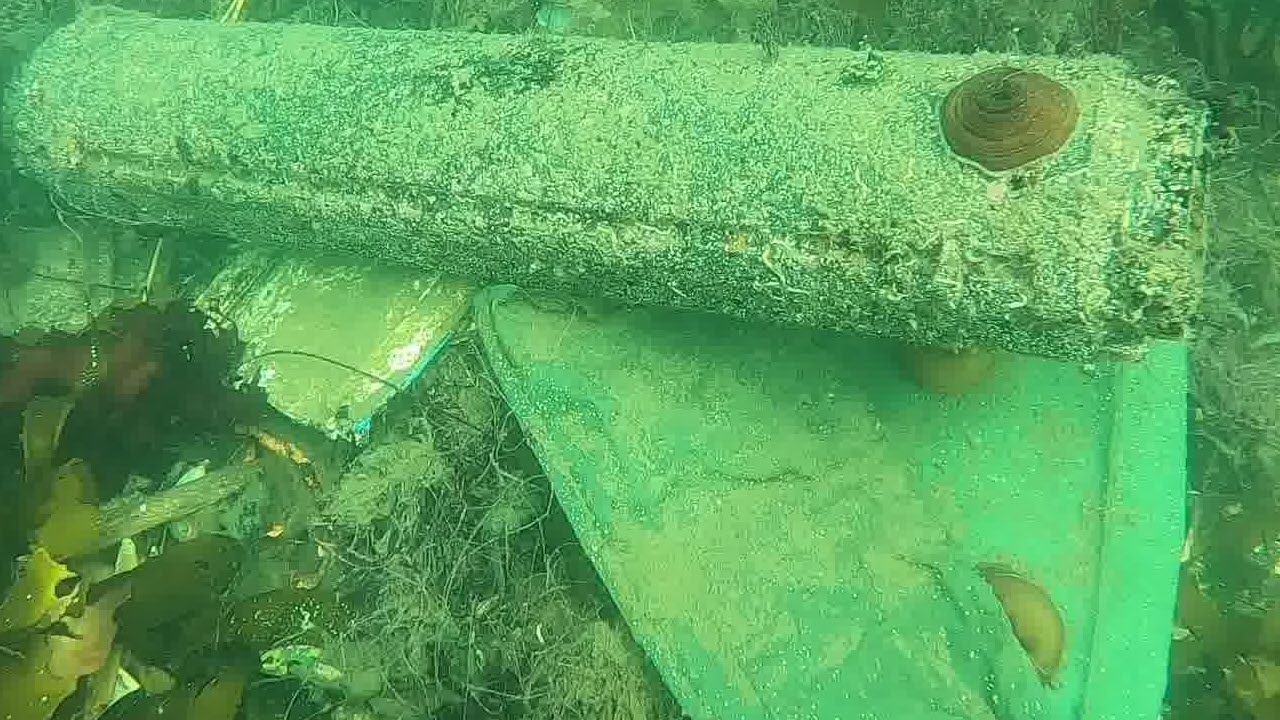eel fish trap: (9, 3, 1218, 362)
